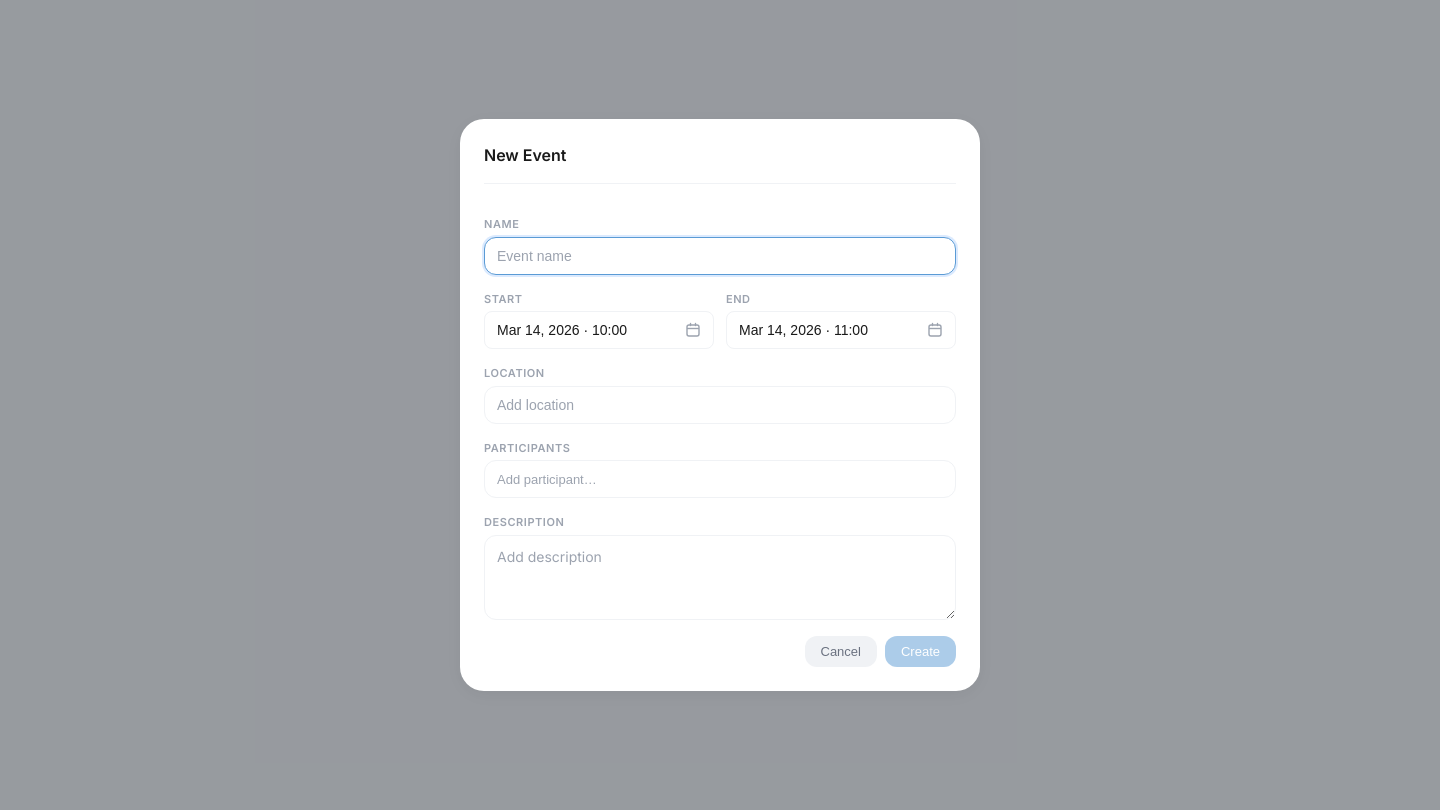
Test case: EventCreateModal — display › Create button is enabled once a name is typed
Type "My Event" into the field with placeholder "Event name" at (720, 256), box [484,237,956,275]
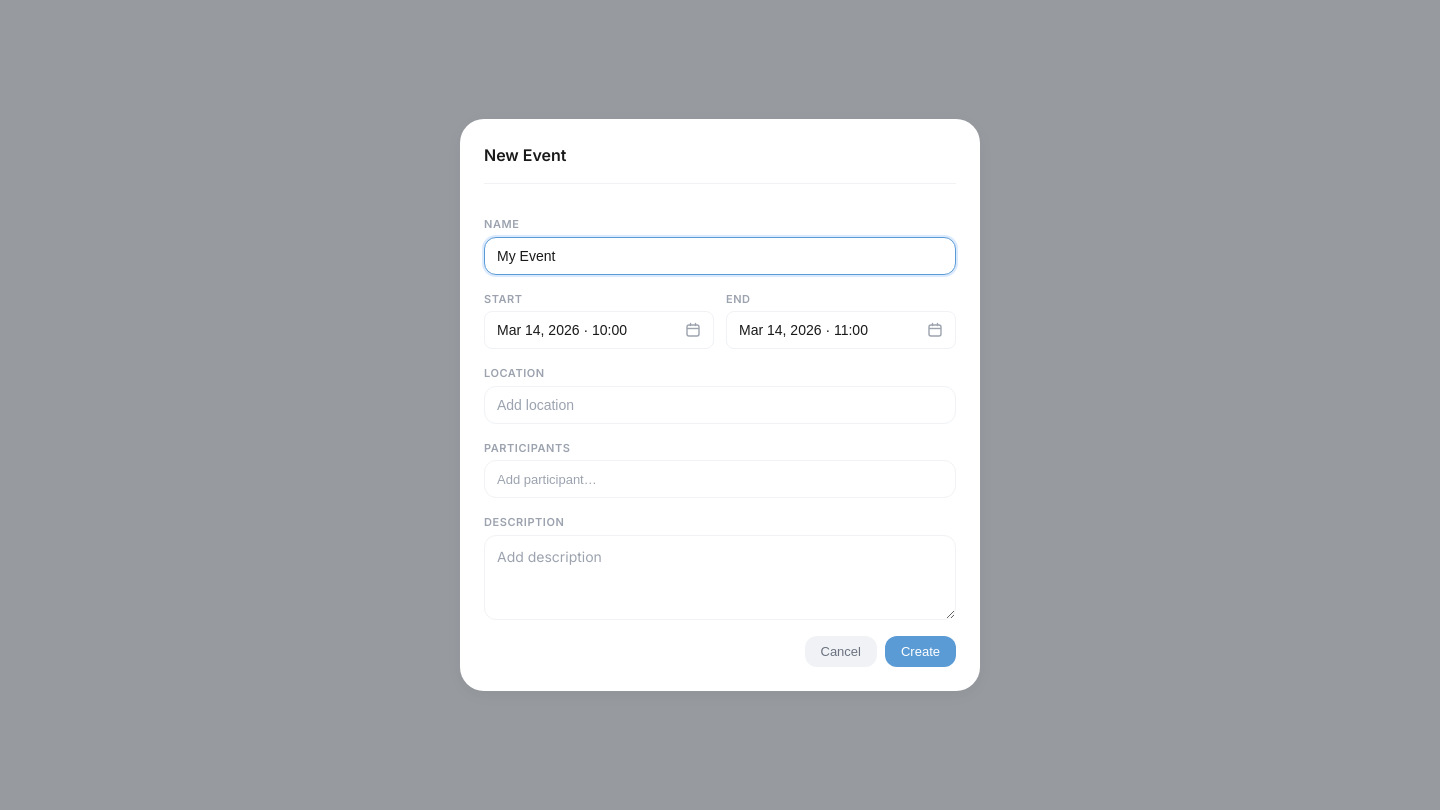
Now the button "Create" is enabled, box [885,636,956,667]
